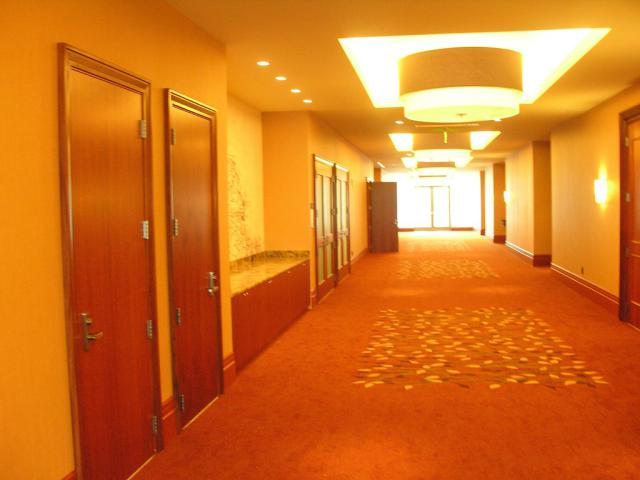Door-handle: (78, 312, 104, 352), (208, 270, 219, 296)
